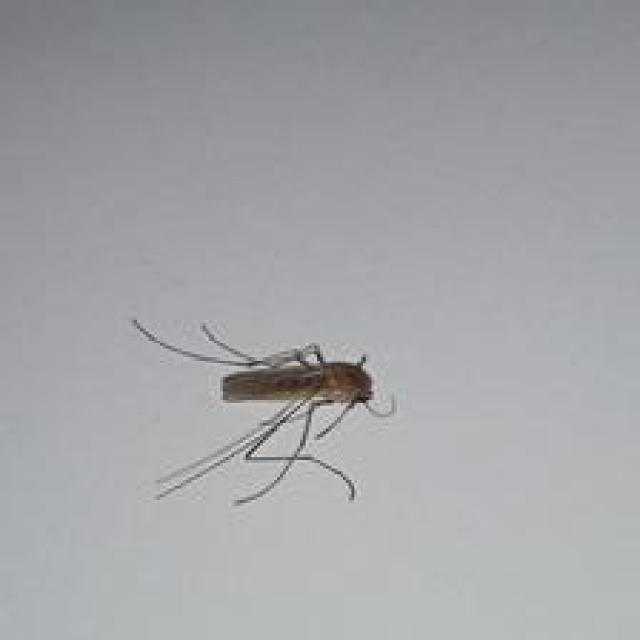Culex: (130, 316, 396, 507)
